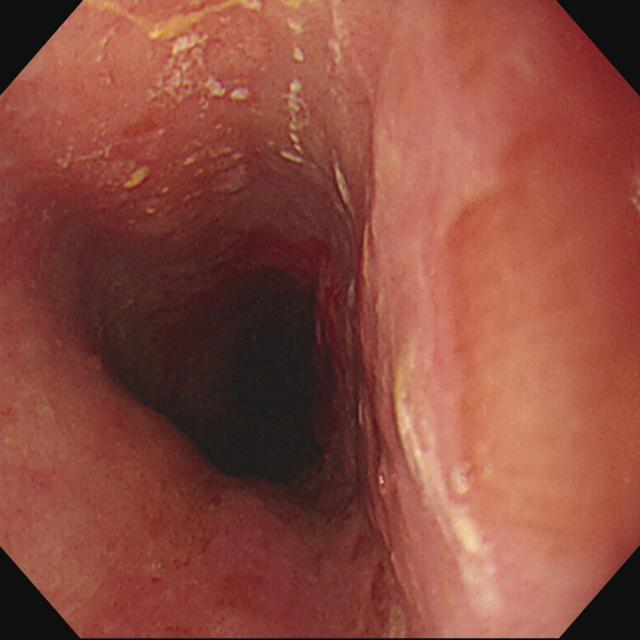A: (307, 299, 411, 508)
C: (371, 561, 391, 629)
E: (196, 295, 310, 489)
J: (393, 367, 501, 615), (147, 2, 267, 110), (184, 139, 255, 200), (281, 78, 311, 166), (328, 2, 356, 74), (332, 148, 356, 217), (285, 2, 307, 63), (123, 166, 151, 194)
